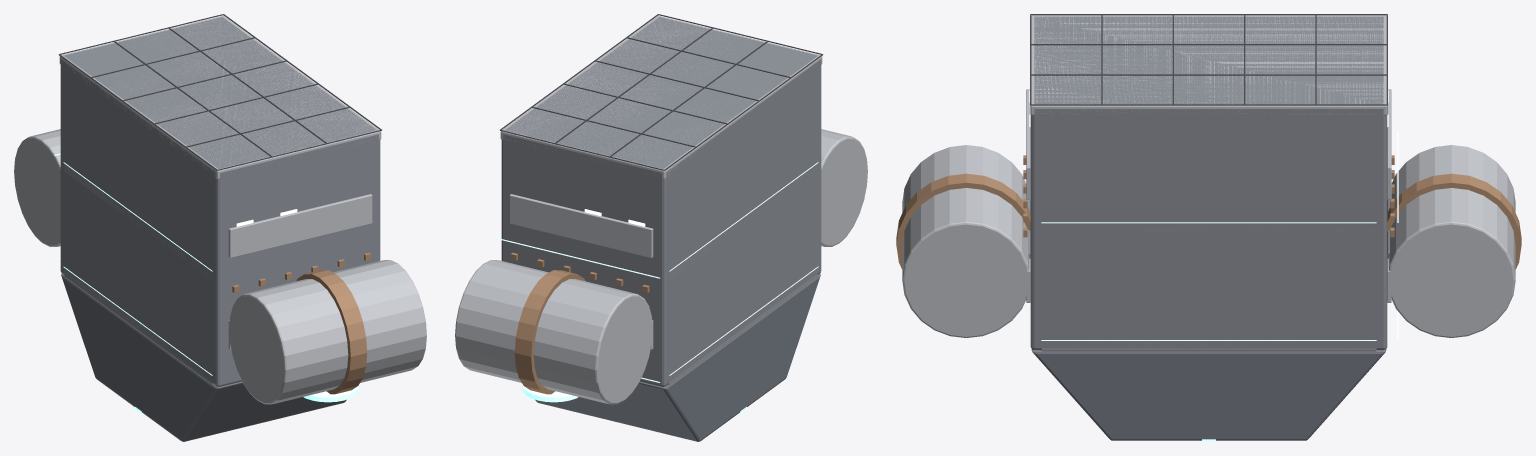
Rendered from ship_lift_5x3.glb.
3 views of the same model, side by side, from view 1: azimuth 30°, elevation 25°; view 2: azimuth 150°, elevation 25°; view 3: azimuth 270°, elevation 25° (orthographic). The views are drawn at different scales.
Visible parts, largest first — view 1: ext_hull, ext_lift_pod0, ext_hull_belly, ext_deck_top, ext_armor_plates, ext_lift_pod2, ext_deck_grid, ext_lift_ring0, int_deck_lower, int_deck_upper, ext_lift_glow0; view 2: ext_hull, ext_lift_pod2, ext_hull_belly, ext_deck_top, ext_armor_plates, ext_lift_pod0, ext_deck_grid, ext_lift_ring2, int_grid_33, int_deck_lower, ext_lift_glow2; view 3: ext_hull, ext_hull_belly, ext_lift_pod0, ext_lift_pod2, ext_deck_top, ext_deck_grid, ext_lift_ring0, ext_lift_ring2, int_deck_lower, ext_armor_plates, int_grid_33.
Part boxes in pixels (box(x1,y1,x2,y2)): ext_hull: box(60, 17, 380, 386); ext_lift_pod0: box(229, 260, 426, 404); ext_hull_belly: box(61, 273, 346, 441); ext_deck_top: box(59, 16, 381, 179); ext_armor_plates: box(228, 194, 372, 349); ext_lift_pod2: box(14, 129, 60, 246); ext_deck_grid: box(58, 14, 381, 170); ext_lift_ring0: box(296, 270, 367, 394); int_deck_lower: box(64, 268, 213, 384); int_deck_upper: box(64, 164, 211, 278); ext_lift_glow0: box(303, 384, 359, 402); ext_hull: box(501, 17, 821, 386); ext_lift_pod2: box(455, 260, 652, 404); ext_hull_belly: box(535, 273, 820, 441); ext_deck_top: box(500, 16, 822, 179); ext_armor_plates: box(509, 194, 653, 349); ext_lift_pod0: box(821, 129, 867, 246); ext_deck_grid: box(500, 14, 823, 170); ext_lift_ring2: box(514, 270, 585, 394); int_grid_33: box(495, 162, 818, 278); int_deck_lower: box(668, 274, 817, 384); ext_lift_glow2: box(522, 384, 578, 402); ext_hull: box(1030, 16, 1387, 349); ext_hull_belly: box(1031, 349, 1386, 440); ext_lift_pod0: box(902, 145, 1029, 337); ext_lift_pod2: box(1388, 145, 1515, 337); ext_deck_top: box(1030, 15, 1387, 115); ext_deck_grid: box(1030, 14, 1387, 105); ext_lift_ring0: box(896, 173, 1030, 269); ext_lift_ring2: box(1387, 173, 1521, 269); int_deck_lower: box(1041, 341, 1376, 351); ext_armor_plates: box(1026, 89, 1391, 302); int_grid_33: box(1041, 132, 1398, 223).
Bounding box in the file's own units: 3.02 × 5.25 × 8.76.
